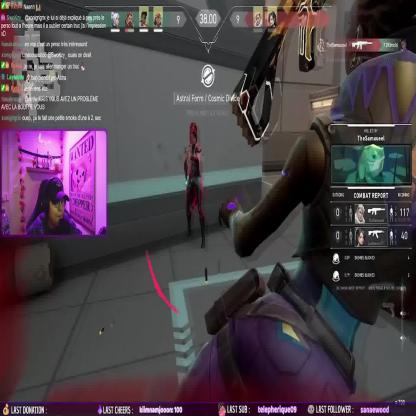enemy: (183, 121, 206, 250)
enemy_head: (189, 122, 197, 144)
